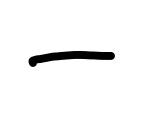minus: (28, 51, 115, 67)
